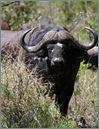Buffalo: (0, 7, 99, 129)
